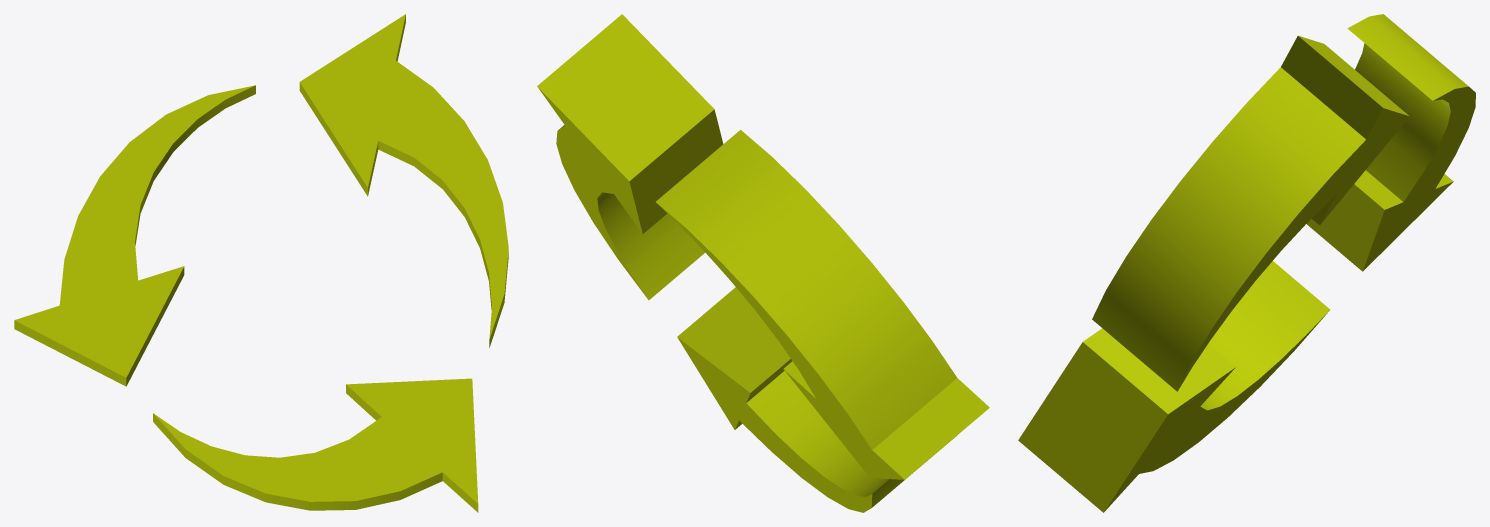
The model's file is icon1.FBX.
The picture shows the model from 3 angles, left to right: view 1: azimuth 30°, elevation 25°; view 2: azimuth 150°, elevation 25°; view 3: azimuth 270°, elevation 25°; orthographic projection. The views are drawn at different scales.
Visible parts, largest first — view 1: Line003, Line002, Line001; view 2: Line002, Line001, Line003; view 3: Line001, Line003, Line002.
Boxes of the visible parts, x1,y1,x2,y2 form: Line003: [153, 378, 478, 512]; Line002: [14, 85, 255, 386]; Line001: [299, 14, 508, 347]; Line002: [656, 130, 989, 479]; Line001: [537, 14, 723, 300]; Line003: [677, 287, 956, 512]; Line001: [1092, 35, 1409, 391]; Line003: [1018, 261, 1330, 512]; Line002: [1306, 14, 1475, 271].
Bounding box in the file's own units: 3.67 × 3.52 × 3.01.
